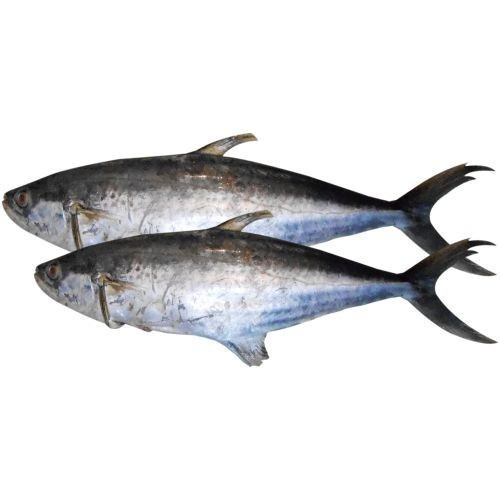Surmai: (2, 128, 492, 257), (30, 228, 493, 356)
